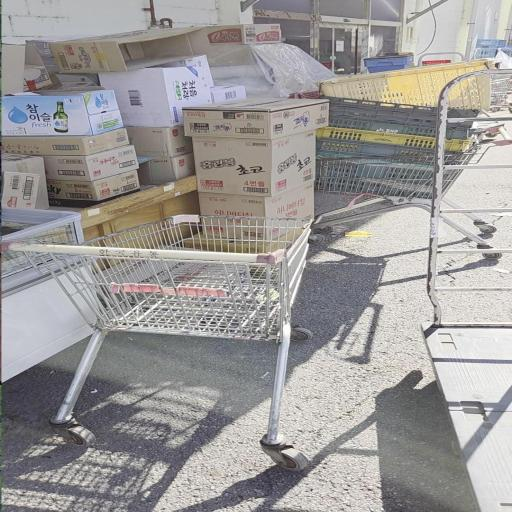empty_cart: (2, 215, 318, 471)
